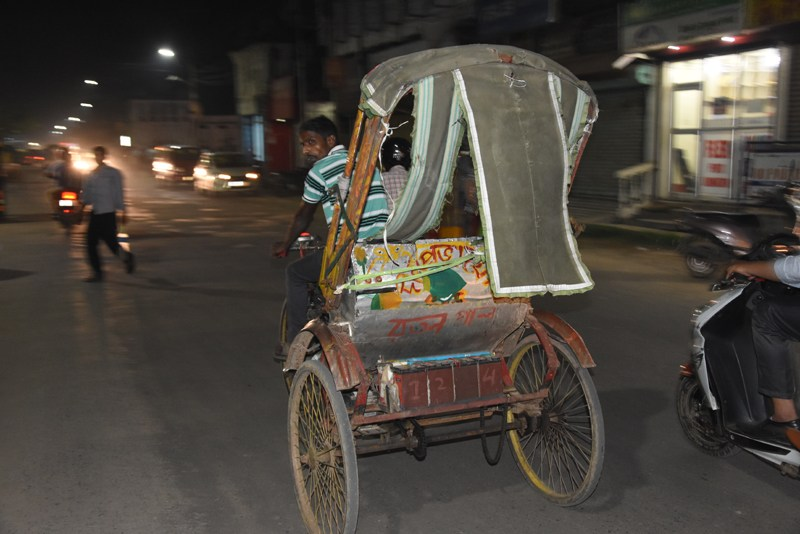Rickshaw: (268, 50, 603, 514)
